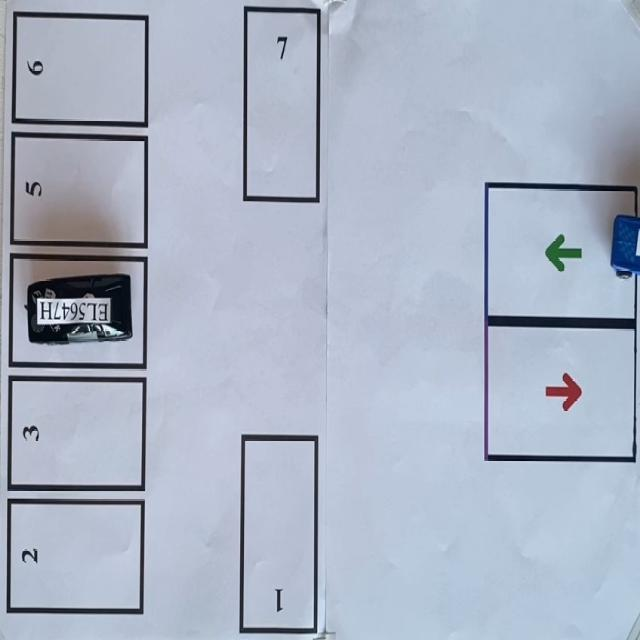car: (26, 273, 131, 343), (611, 216, 639, 277)
